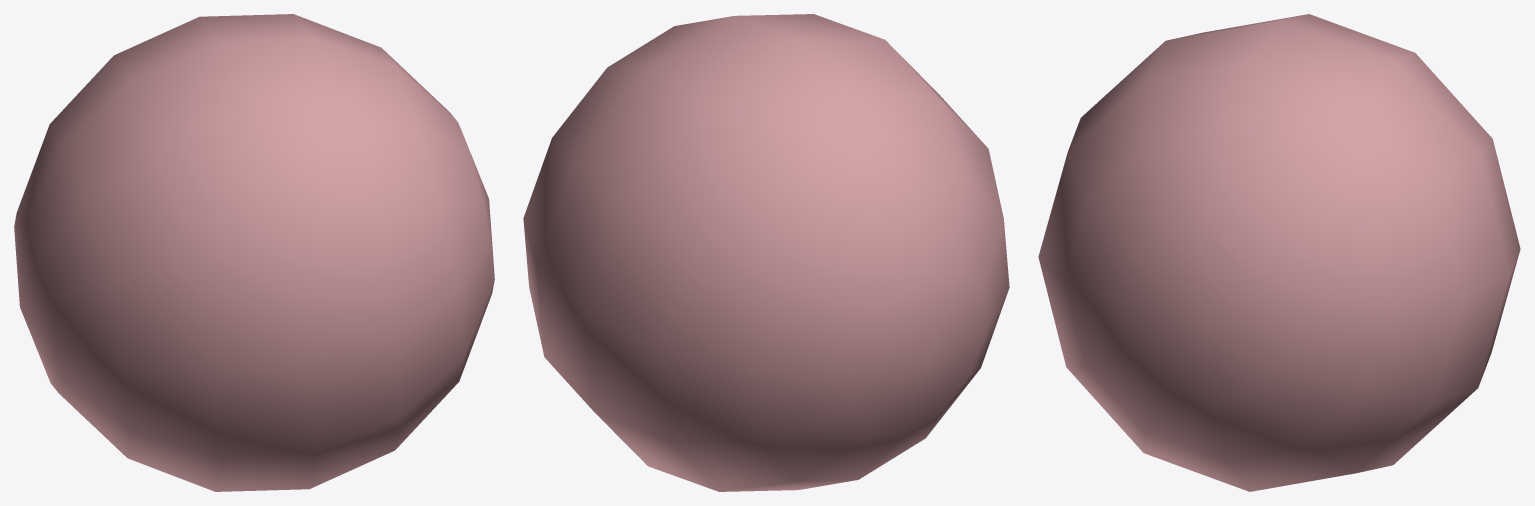
3 renders of one model, left to right at view 1: azimuth 30°, elevation 25°; view 2: azimuth 150°, elevation 25°; view 3: azimuth 270°, elevation 25°, orthographic.
Parts seen in each view (by area): view 1: ZA_e972c30c83943c6a; view 2: ZA_e972c30c83943c6a; view 3: ZA_e972c30c83943c6a.
Boxes of the visible parts, left/top/right/bottom form: ZA_e972c30c83943c6a: left=14, top=14, right=494, bottom=491; ZA_e972c30c83943c6a: left=523, top=14, right=1009, bottom=491; ZA_e972c30c83943c6a: left=1038, top=14, right=1520, bottom=491.
Size of the model in its own units: 0.0026 by 0.00257 by 0.00259.
